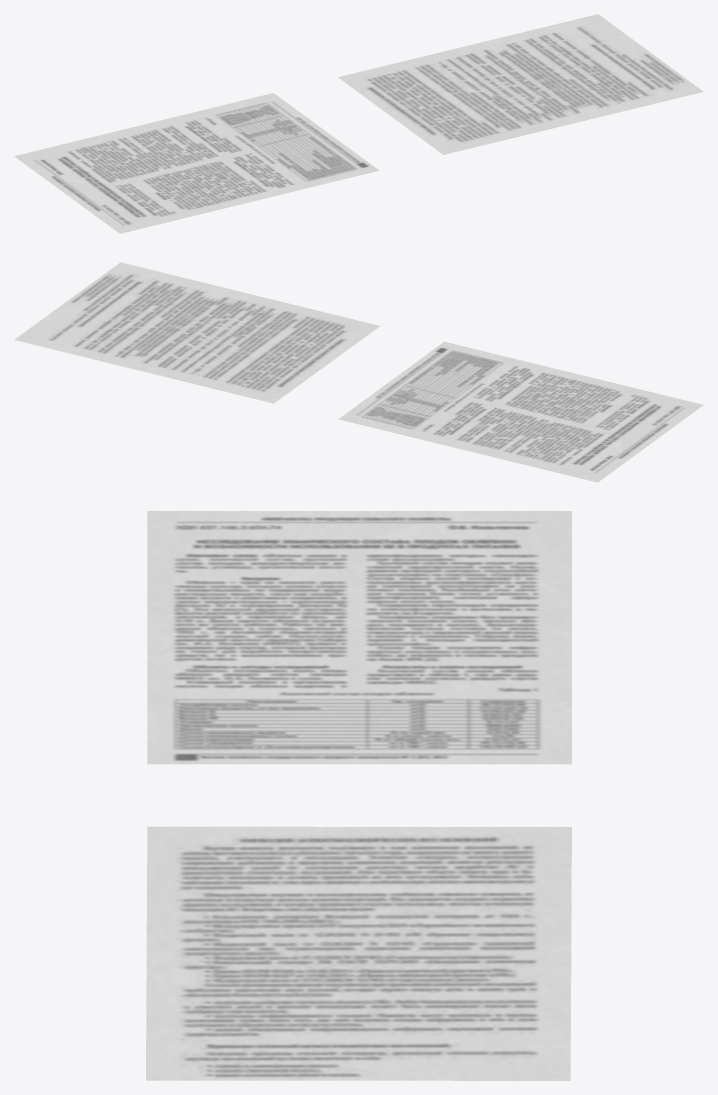
File: paper.glb
The picture shows the model from 3 angles, top to bottom: view 1: azimuth 30°, elevation 25°; view 2: azimuth 150°, elevation 25°; view 3: azimuth 270°, elevation 25°; orthographic projection. The views are drawn at different scales.
Parts seen in each view (by area): view 1: Object_2.001, Object_2; view 2: Object_2.001, Object_2; view 3: Object_2.001, Object_2.
Part boxes in pixels (x1,y1,x2,y2): Object_2.001: (338,14,703,154); Object_2: (14,93,378,233); Object_2.001: (14,262,379,403); Object_2: (338,341,703,482); Object_2.001: (146,826,571,1080); Object_2: (147,511,571,764).
Size of the model in its own units: 14.31 by 1.52e-06 by 4.52.
1 material, 1 textured.
